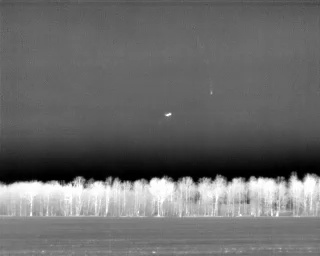DRONE: (162, 108, 175, 121)
